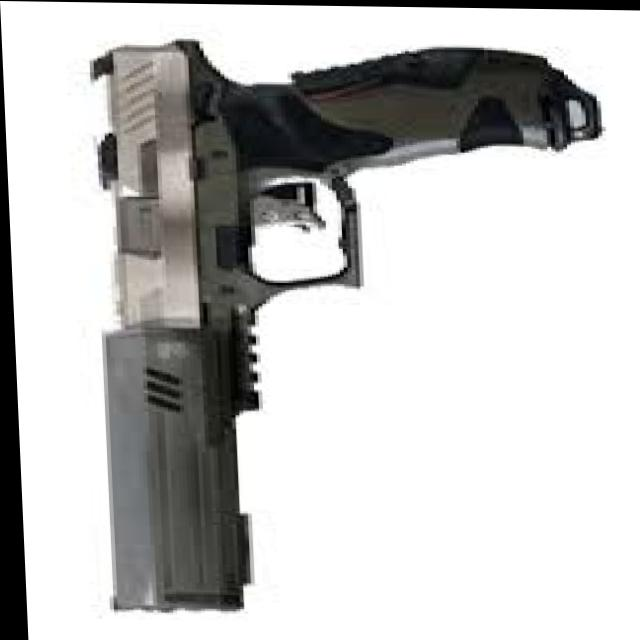handgun: (61, 36, 622, 610)
